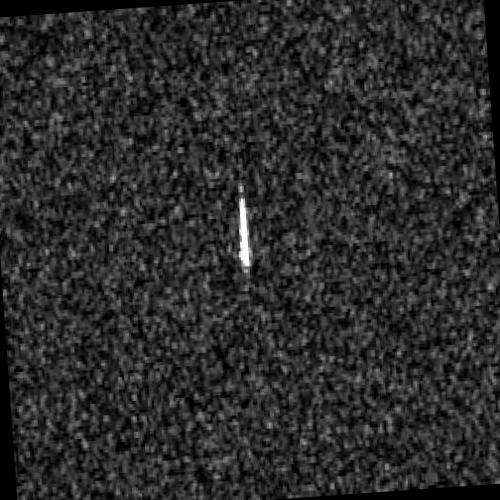ship: (237, 184, 250, 267)
